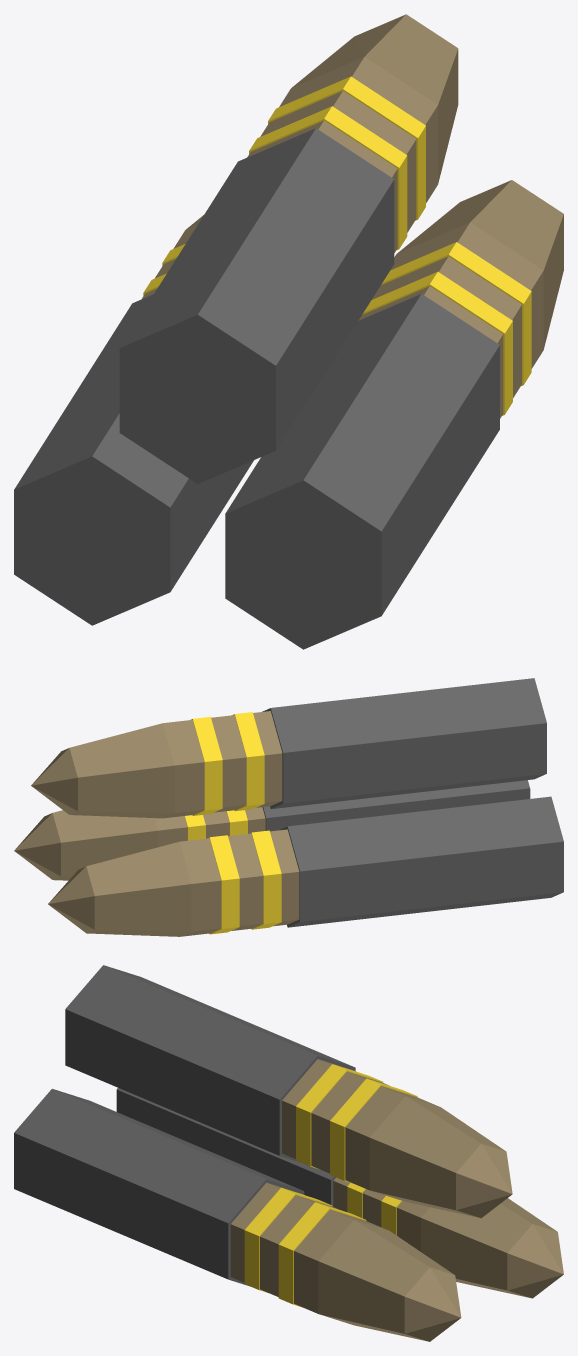
The model's file is ce_ammo2_rcl84_hedp_b.obj.
3 views of the same model, one above another, from view 1: azimuth 30°, elevation 25°; view 2: azimuth 150°, elevation 25°; view 3: azimuth 270°, elevation 25° (orthographic). The views are drawn at different scales.
Visible parts, largest first — view 1: ce_ammo2_rcl84_hedp_b_16, ce_ammo2_rcl84_hedp_b_8, ce_ammo2_rcl84_hedp_b_0, ce_ammo2_rcl84_hedp_b_14, ce_ammo2_rcl84_hedp_b_22, ce_ammo2_rcl84_hedp_b_13, ce_ammo2_rcl84_hedp_b_21, ce_ammo2_rcl84_hedp_b_19, ce_ammo2_rcl84_hedp_b_18, ce_ammo2_rcl84_hedp_b_20, ce_ammo2_rcl84_hedp_b_11, ce_ammo2_rcl84_hedp_b_10 (+3 smaller); view 2: ce_ammo2_rcl84_hedp_b_0, ce_ammo2_rcl84_hedp_b_16, ce_ammo2_rcl84_hedp_b_6, ce_ammo2_rcl84_hedp_b_22, ce_ammo2_rcl84_hedp_b_8, ce_ammo2_rcl84_hedp_b_14, ce_ammo2_rcl84_hedp_b_5, ce_ammo2_rcl84_hedp_b_21, ce_ammo2_rcl84_hedp_b_19, ce_ammo2_rcl84_hedp_b_3, ce_ammo2_rcl84_hedp_b_4, ce_ammo2_rcl84_hedp_b_2 (+12 smaller); view 3: ce_ammo2_rcl84_hedp_b_16, ce_ammo2_rcl84_hedp_b_8, ce_ammo2_rcl84_hedp_b_22, ce_ammo2_rcl84_hedp_b_14, ce_ammo2_rcl84_hedp_b_6, ce_ammo2_rcl84_hedp_b_0, ce_ammo2_rcl84_hedp_b_15, ce_ammo2_rcl84_hedp_b_7, ce_ammo2_rcl84_hedp_b_23, ce_ammo2_rcl84_hedp_b_21, ce_ammo2_rcl84_hedp_b_13, ce_ammo2_rcl84_hedp_b_11 (+11 smaller).
Part boxes in pixels (box(x1,y1,x2,y2)): ce_ammo2_rcl84_hedp_b_16: box(119, 128, 394, 483); ce_ammo2_rcl84_hedp_b_8: box(225, 293, 499, 649); ce_ammo2_rcl84_hedp_b_0: box(14, 294, 253, 625); ce_ammo2_rcl84_hedp_b_14: box(397, 180, 563, 349); ce_ammo2_rcl84_hedp_b_22: box(292, 14, 458, 183); ce_ammo2_rcl84_hedp_b_13: box(390, 222, 543, 368); ce_ammo2_rcl84_hedp_b_21: box(279, 57, 437, 202); ce_ammo2_rcl84_hedp_b_19: box(260, 91, 416, 232); ce_ammo2_rcl84_hedp_b_18: box(249, 106, 407, 249); ce_ammo2_rcl84_hedp_b_20: box(268, 76, 425, 220); ce_ammo2_rcl84_hedp_b_11: box(372, 256, 521, 397); ce_ammo2_rcl84_hedp_b_10: box(362, 271, 512, 415); ce_ammo2_rcl84_hedp_b_0: box(279, 796, 563, 927); ce_ammo2_rcl84_hedp_b_16: box(262, 678, 546, 808); ce_ammo2_rcl84_hedp_b_6: box(86, 841, 191, 936); ce_ammo2_rcl84_hedp_b_22: box(69, 723, 174, 818); ce_ammo2_rcl84_hedp_b_8: box(262, 780, 530, 831); ce_ammo2_rcl84_hedp_b_14: box(52, 810, 157, 880); ce_ammo2_rcl84_hedp_b_5: box(180, 838, 221, 936); ce_ammo2_rcl84_hedp_b_21: box(163, 720, 204, 818); ce_ammo2_rcl84_hedp_b_19: box(211, 715, 246, 812); ce_ammo2_rcl84_hedp_b_3: box(228, 833, 263, 930); ce_ammo2_rcl84_hedp_b_4: box(207, 835, 239, 934); ce_ammo2_rcl84_hedp_b_2: box(249, 830, 281, 929); ce_ammo2_rcl84_hedp_b_16: box(65, 965, 355, 1162); ce_ammo2_rcl84_hedp_b_8: box(14, 1088, 304, 1286); ce_ammo2_rcl84_hedp_b_22: box(369, 1096, 505, 1217); ce_ammo2_rcl84_hedp_b_14: box(318, 1219, 454, 1341); ce_ammo2_rcl84_hedp_b_6: box(421, 1198, 556, 1297); ce_ammo2_rcl84_hedp_b_0: box(116, 1088, 335, 1206); ce_ammo2_rcl84_hedp_b_15: box(404, 1267, 461, 1341); ce_ammo2_rcl84_hedp_b_7: box(507, 1224, 563, 1298); ce_ammo2_rcl84_hedp_b_23: box(456, 1143, 512, 1218); ce_ammo2_rcl84_hedp_b_21: box(345, 1086, 439, 1190); ce_ammo2_rcl84_hedp_b_13: box(294, 1209, 387, 1313); ce_ammo2_rcl84_hedp_b_11: box(260, 1195, 338, 1296).
Size of the model in its own units: 0.758 by 0.326 by 0.758.
